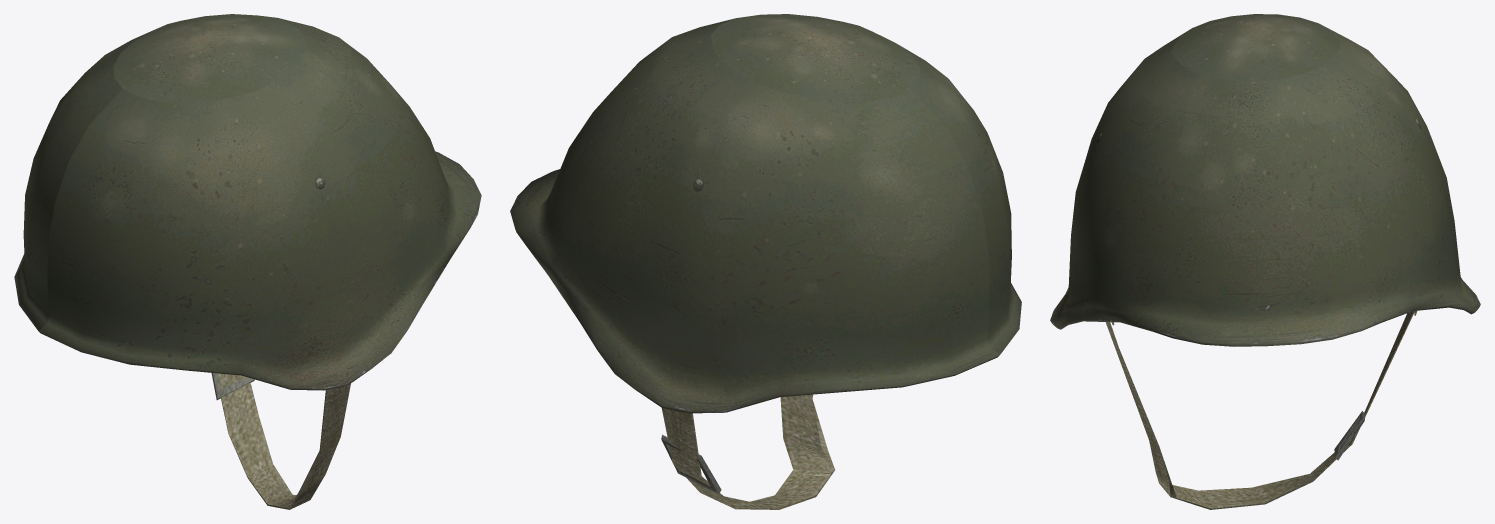
The model's file is helmet.fbx.
3 views of the same model, side by side, from view 1: azimuth 30°, elevation 25°; view 2: azimuth 150°, elevation 25°; view 3: azimuth 270°, elevation 25° (orthographic). The views are drawn at different scales.
Visible parts, largest first — view 1: lib_rus_soldier_Material.005_0; view 2: lib_rus_soldier_Material.005_0; view 3: lib_rus_soldier_Material.005_0.
Part boxes in pixels (<box>): lib_rus_soldier_Material.005_0: <box>14,14,481,509</box>; lib_rus_soldier_Material.005_0: <box>510,14,1021,509</box>; lib_rus_soldier_Material.005_0: <box>1050,14,1480,509</box>.
Bounding box in the file's own units: 22.64 × 23.19 × 19.94.
Materials: 1 (1 with a texture image).
